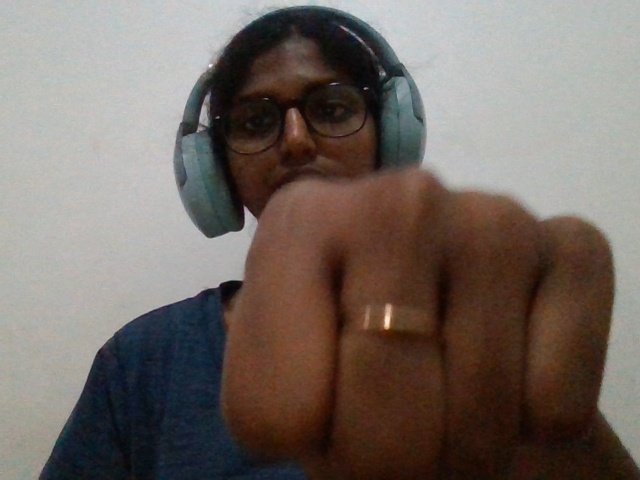Yes: (197, 128, 640, 471)
